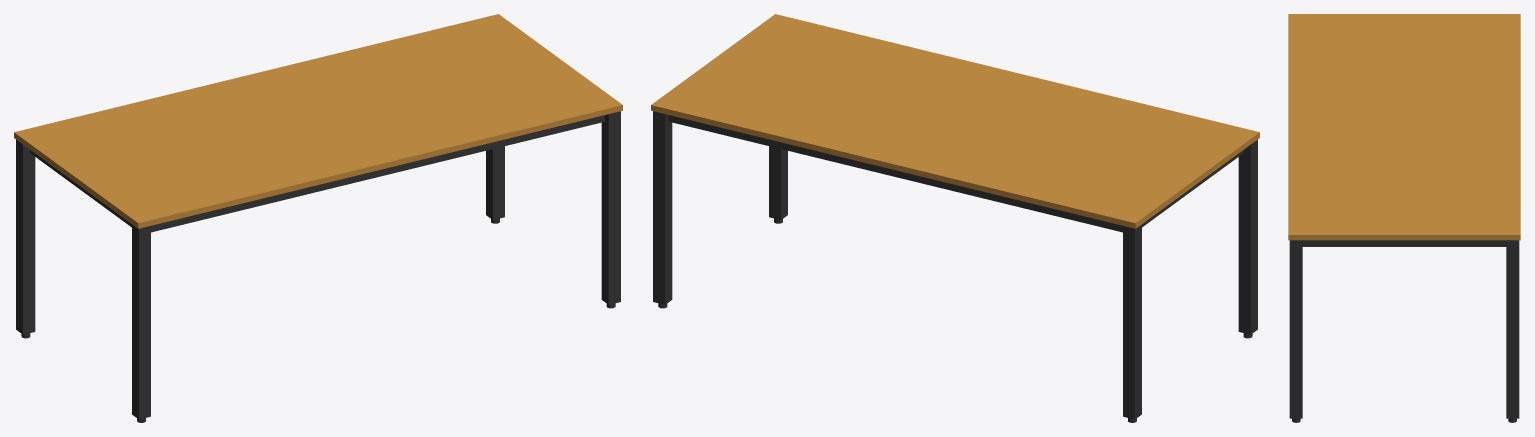
Rendered from legDesk180.fbx.
3 views of the same model, side by side, from view 1: azimuth 30°, elevation 25°; view 2: azimuth 150°, elevation 25°; view 3: azimuth 270°, elevation 25° (orthographic). The views are drawn at different scales.
Visible parts, largest first — view 1: legDesk180; view 2: legDesk180; view 3: legDesk180.
Part boxes in pixels (box(x1,y1,x2,y2)): legDesk180: box(14, 14, 622, 422); legDesk180: box(651, 14, 1259, 422); legDesk180: box(1288, 14, 1520, 422).
Bounding box in the file's own units: 180 × 72 × 80.
